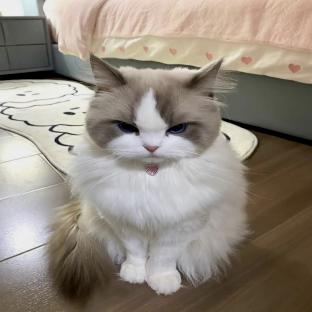Animal: (48, 54, 248, 298)
